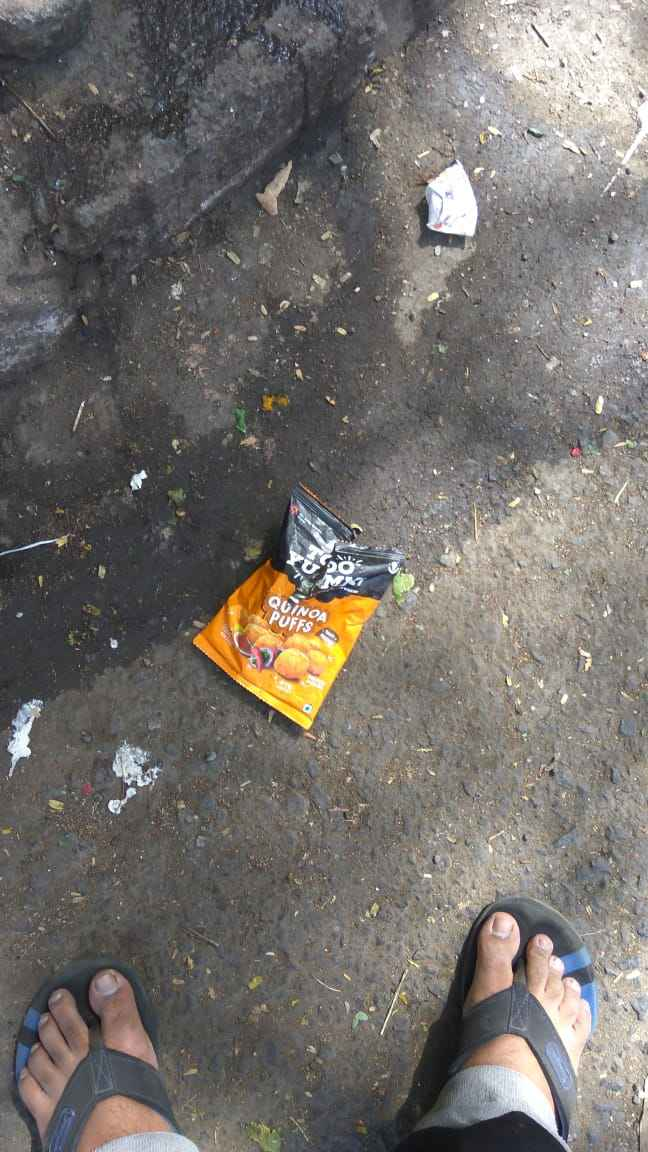tooyumm: (289, 539, 365, 599)
